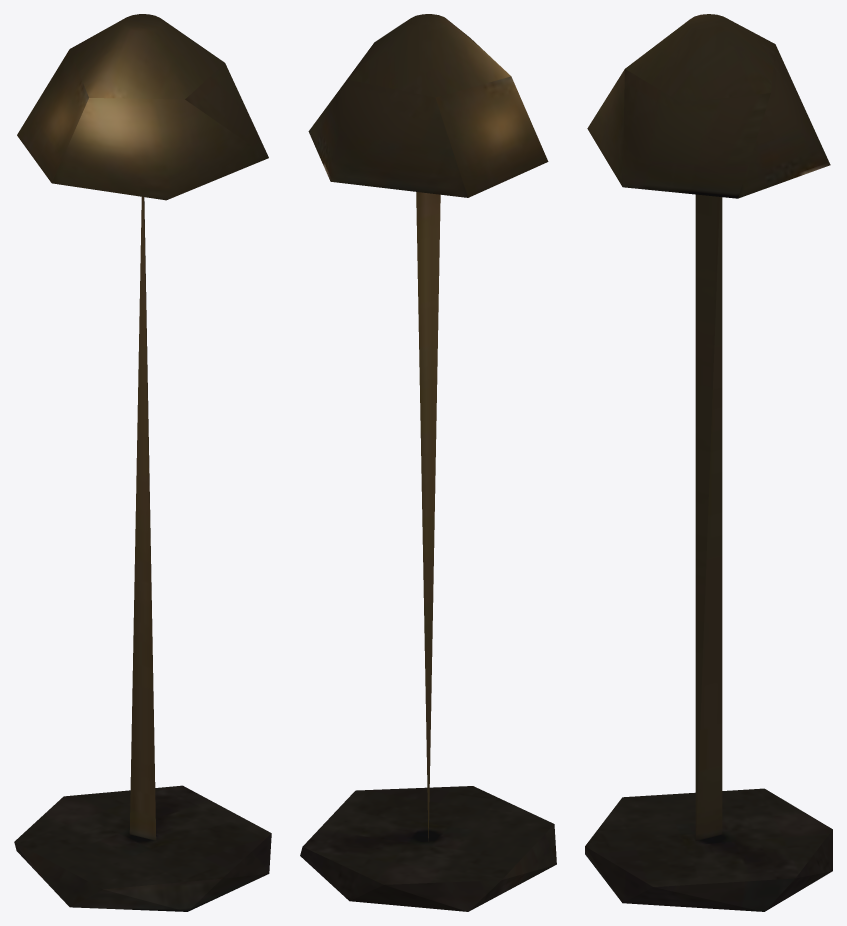
Rendered from cantina_prop_lights_lod1.glb.
3 renders of one model, left to right at view 1: azimuth 30°, elevation 25°; view 2: azimuth 150°, elevation 25°; view 3: azimuth 270°, elevation 25°, orthographic.
Parts seen in each view (by area): view 1: cantina_prop_lights; view 2: cantina_prop_lights; view 3: cantina_prop_lights.
Boxes of the visible parts, left/top/right/bottom form: cantina_prop_lights: left=14, top=14, right=271, bottom=911; cantina_prop_lights: left=300, top=14, right=556, bottom=911; cantina_prop_lights: left=585, top=14, right=832, bottom=911.
Size of the model in its own units: 0.3559 by 1.35 by 0.3612.
1 material, 1 textured.
